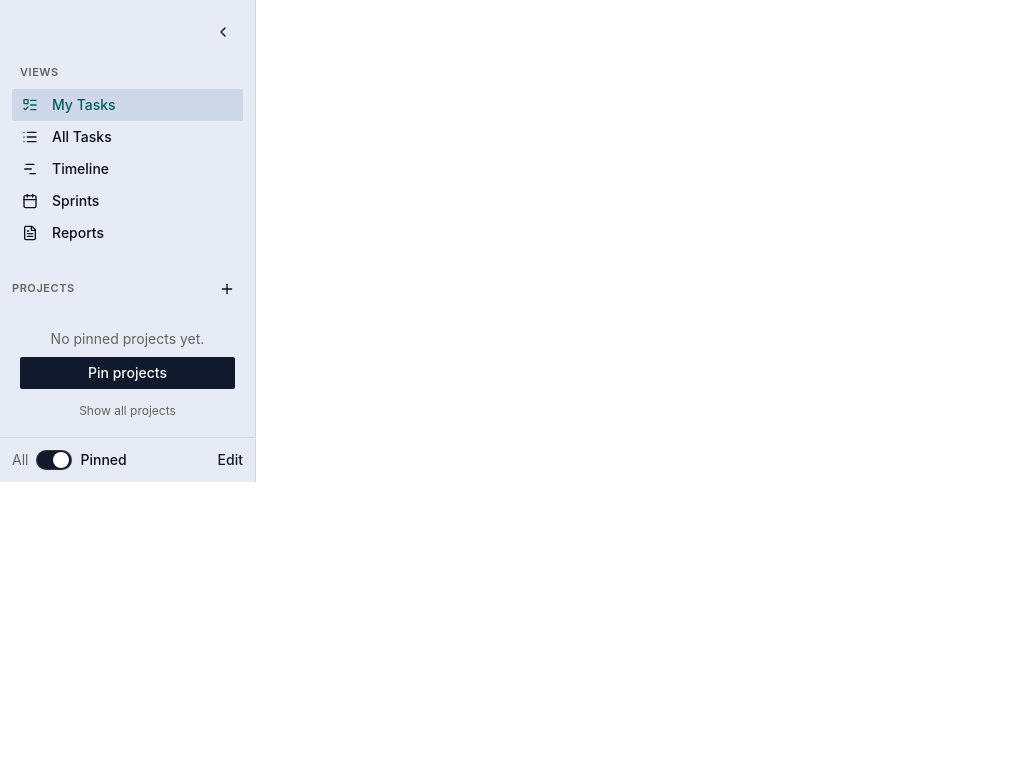
Test case: Sidebar — All/Pinned project filtering › opens the picker from the empty-state "Pin projects" button
Click the button "Pin projects" at (128, 372), box x1=20 y1=356 x2=235 y2=388
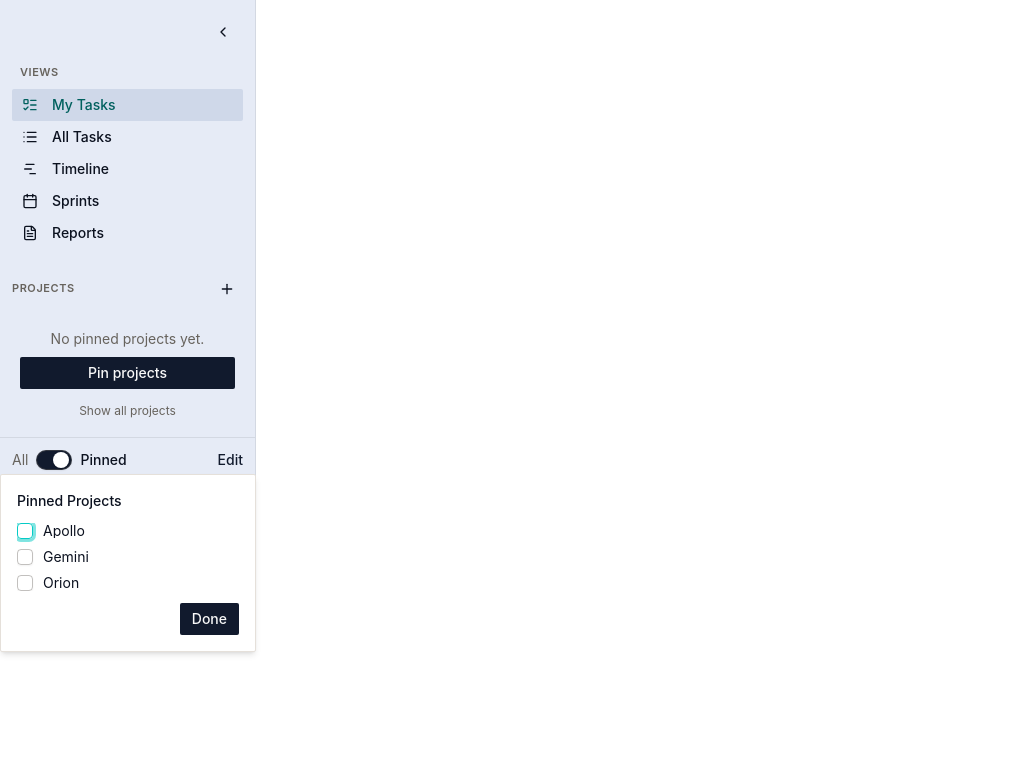
Expected: the text "Pinned Projects" is shown, x1=17 y1=492 x2=122 y2=509
